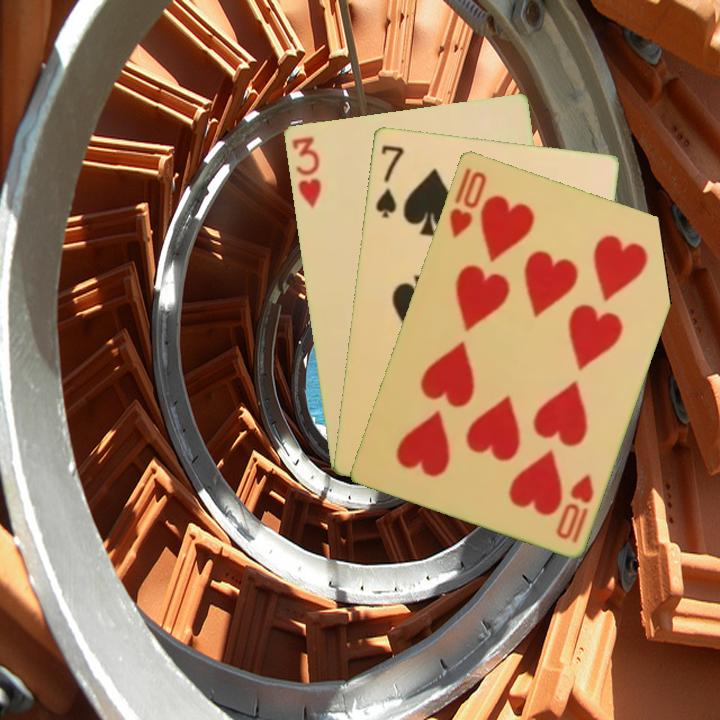10h: (445, 163, 489, 240), (552, 470, 597, 545)
3h: (287, 133, 324, 211)
7s: (371, 141, 407, 220)
